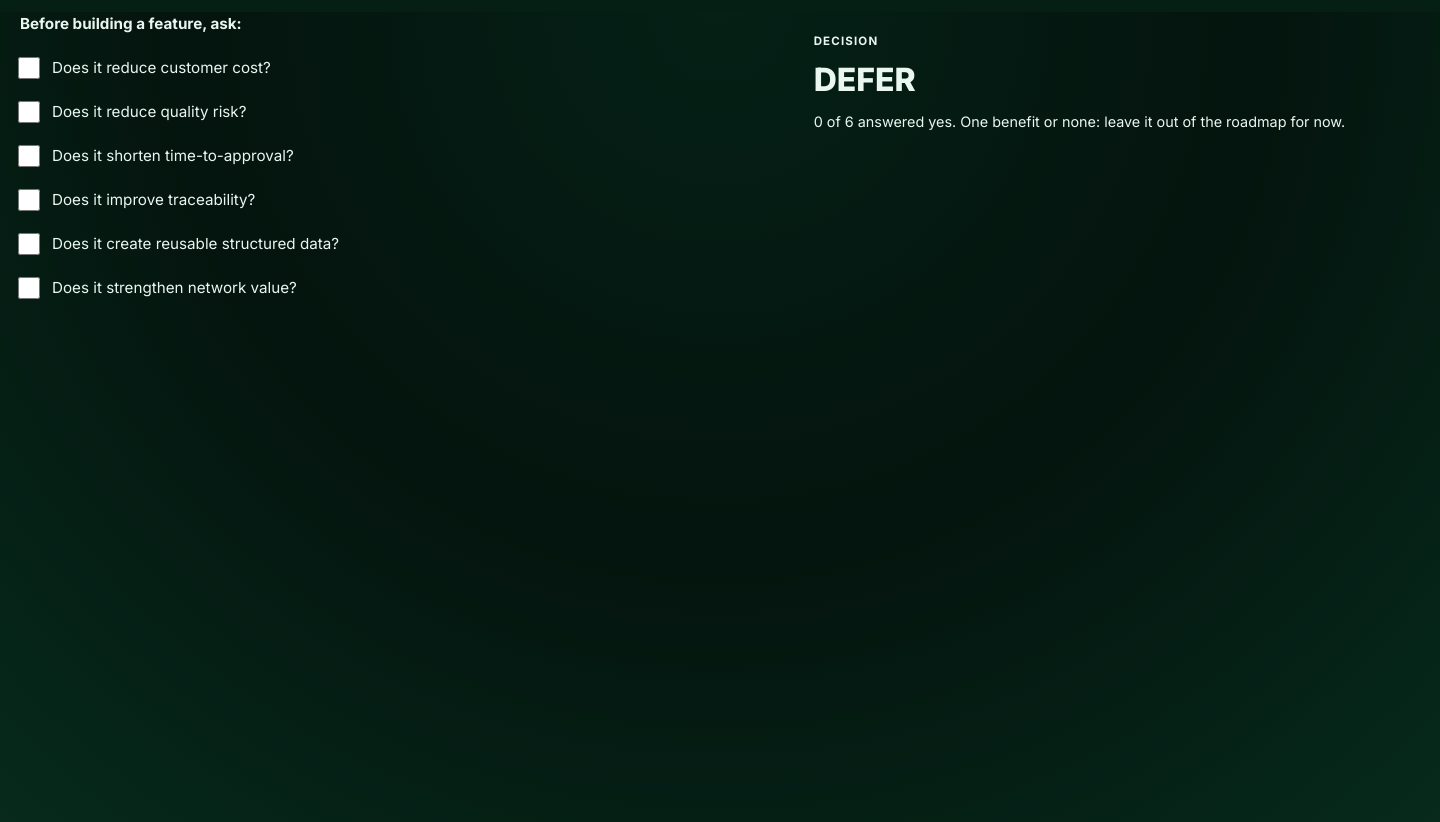
Test: DecisionFramework › moves from DEFER to INVESTIGATE to BUILD as questions are answered yes
Expected: the text "DEFER" is shown, [814,60,916,99]
What coordinates should you click on to do the following:
click the checkbox labelled "Does it reduce customer cost?"
I would click on:
 (29, 68)
Its box is [18,57,40,79].
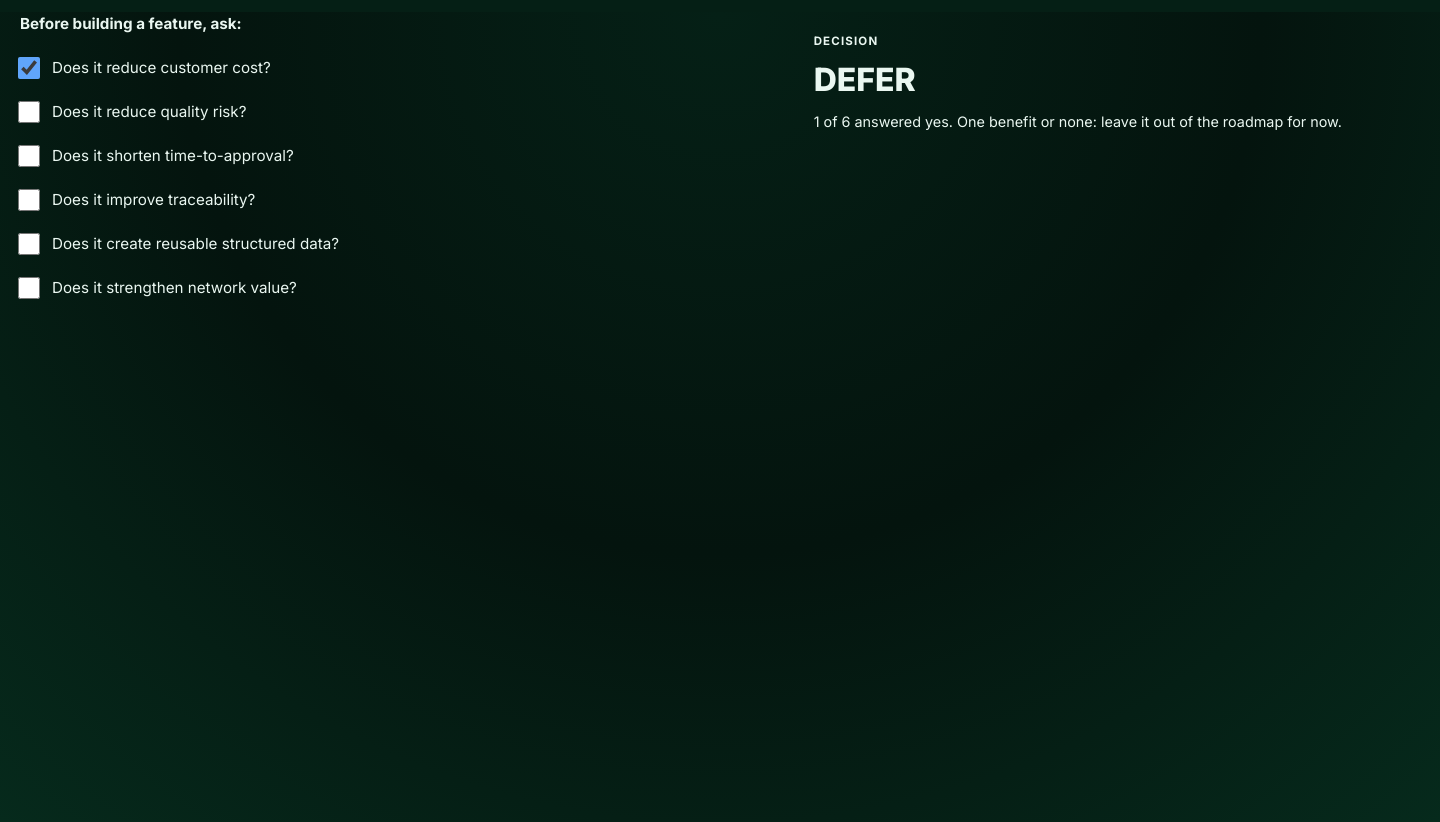
What coordinates should you click on to do the following:
click the checkbox labelled "Does it reduce quality risk?"
I would click on:
 (29, 112)
Its box is [18,101,40,123].
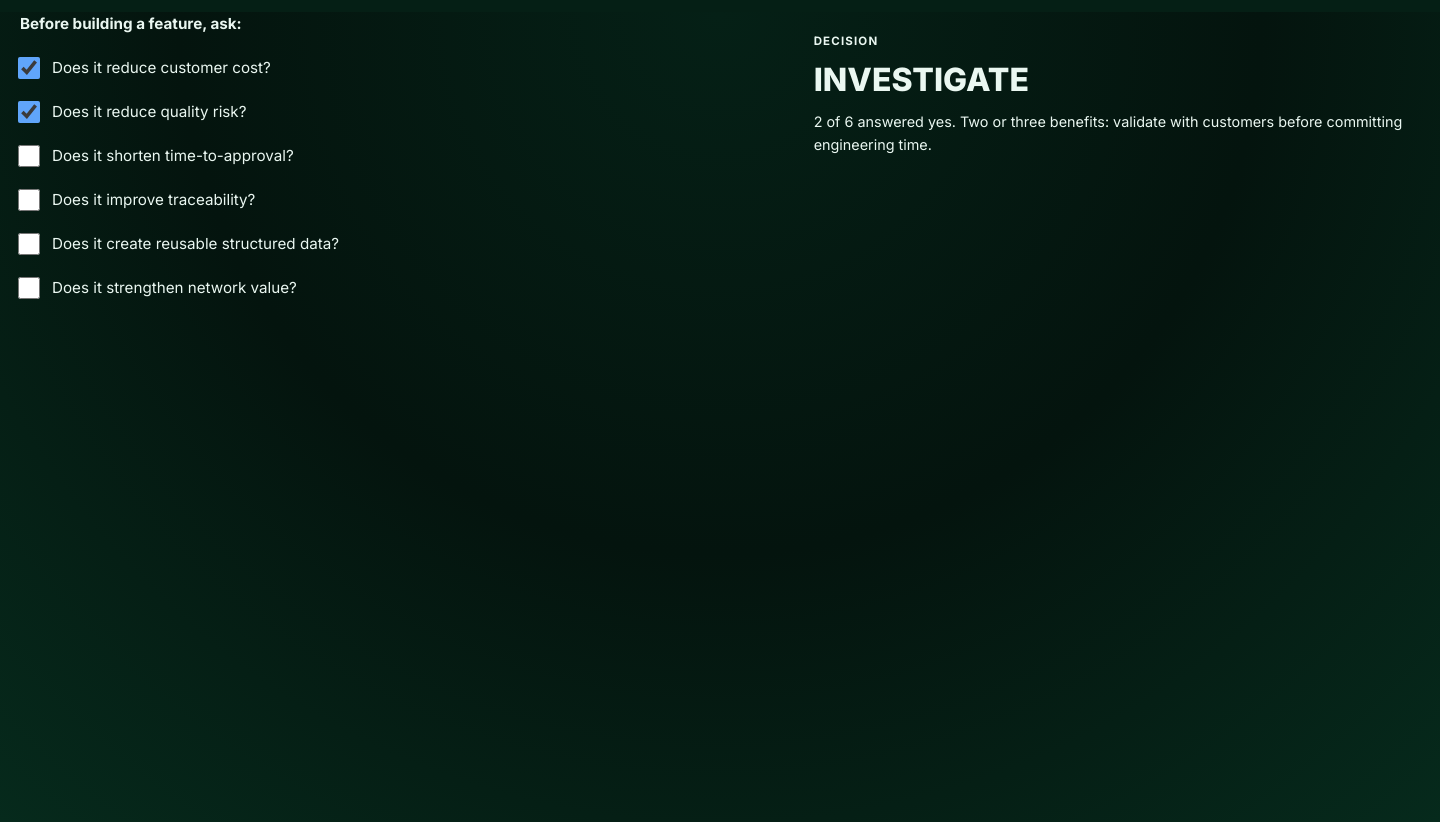
Result: the text "INVESTIGATE" is shown at [814,60,1029,99]
What coordinates should you click on to do the following:
click the checkbox labelled "Does it shorten time-to-approval?"
I would click on:
 (29, 156)
Its box is [18,145,40,167].
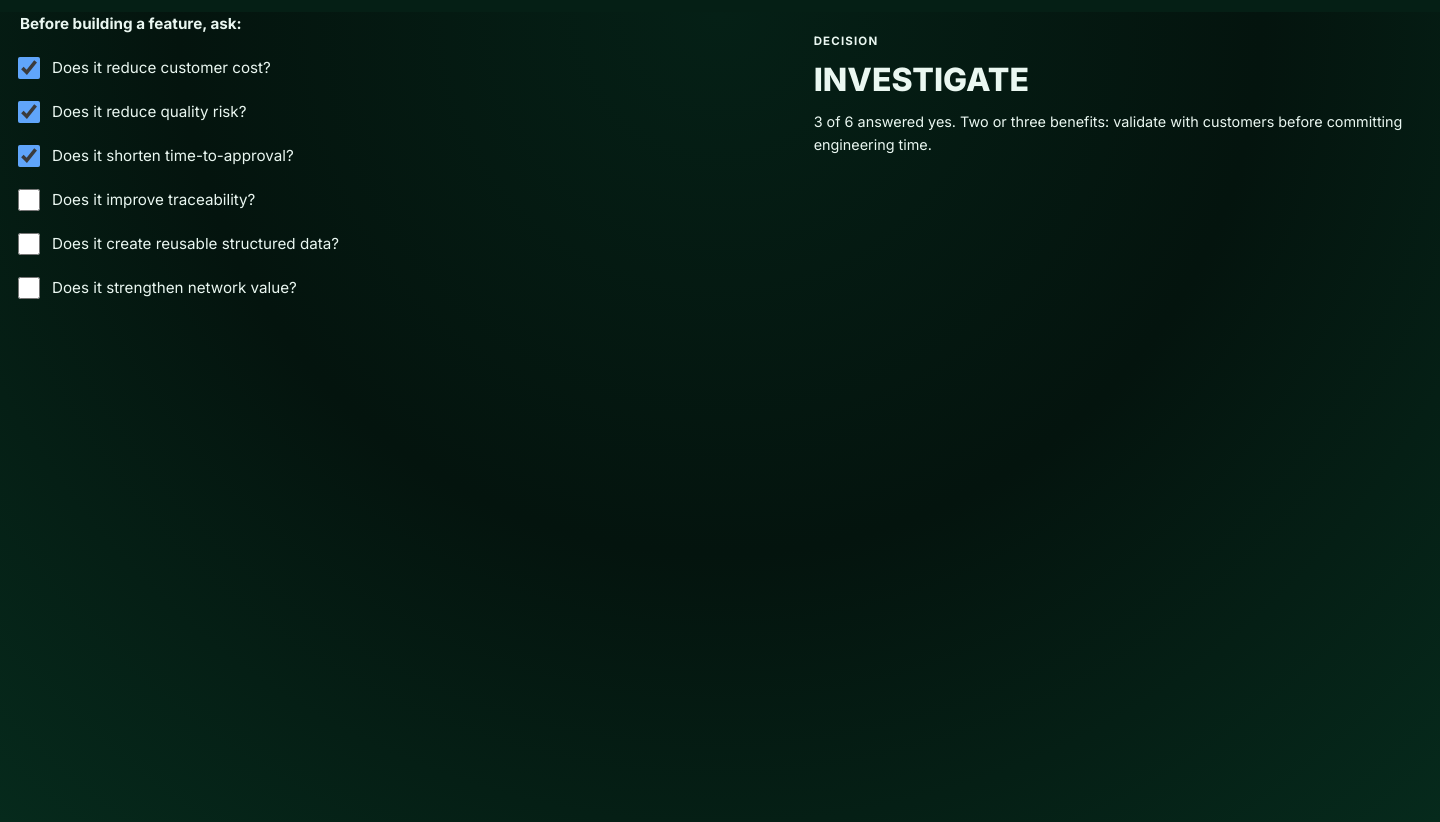
What coordinates should you click on to do the following:
click the checkbox labelled "Does it improve traceability?"
I would click on:
 (29, 200)
Its box is [18,189,40,211].
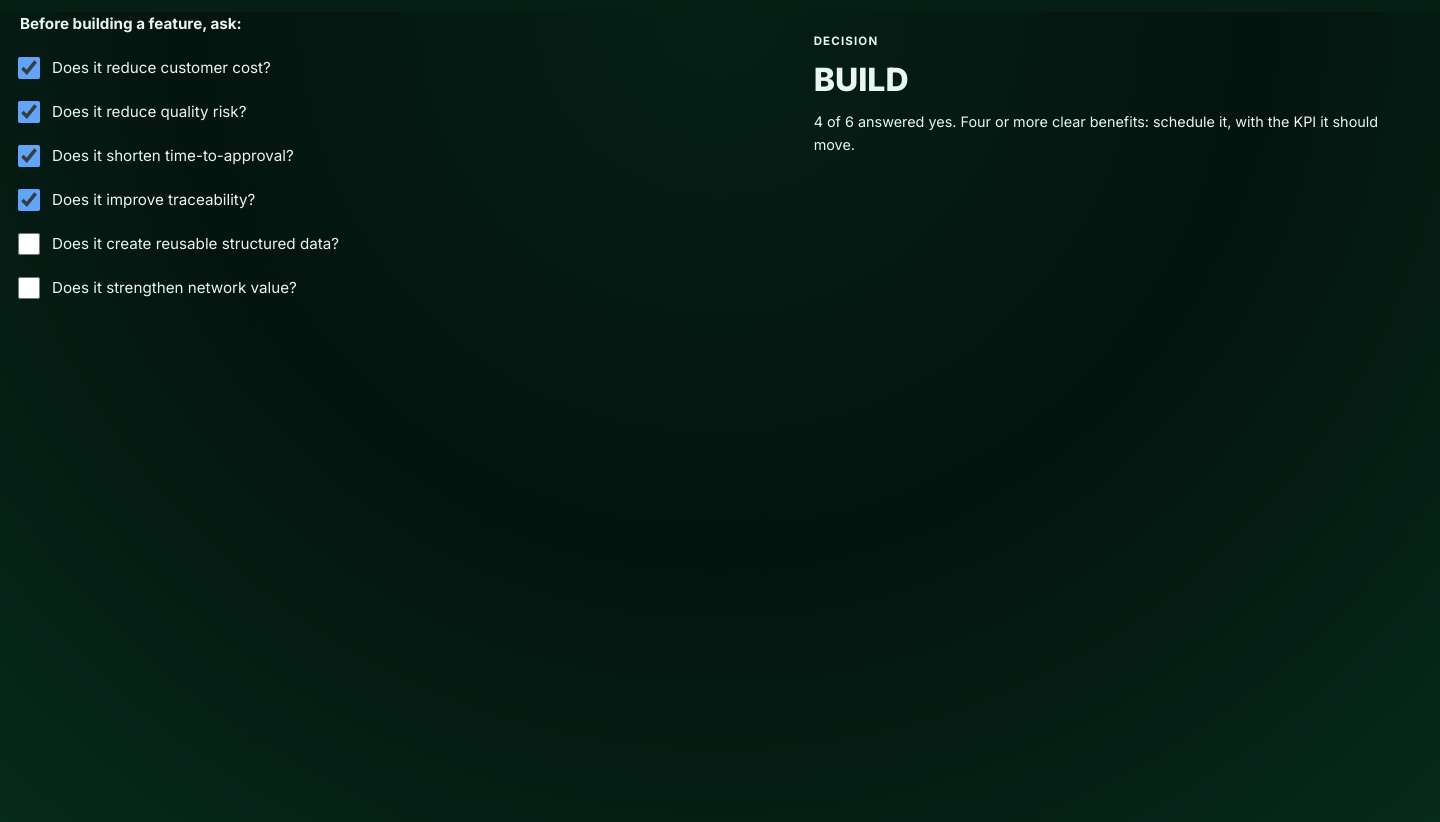
Result: the text "BUILD" is shown at [814,60,908,99]
